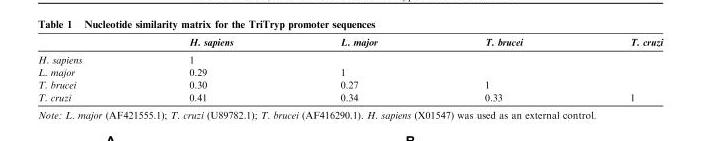table: (37, 37, 662, 102)
table column: (134, 37, 286, 102), (430, 37, 575, 102), (286, 37, 430, 102), (37, 37, 134, 102), (575, 37, 662, 102)
table column header: (37, 37, 662, 50)
table row: (37, 50, 662, 65), (37, 37, 662, 50), (37, 65, 662, 78), (37, 78, 662, 91), (37, 91, 662, 102)
